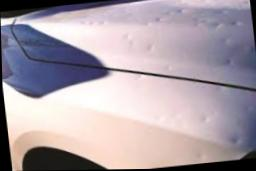Bonnet: (8, 0, 256, 92)
Bumper: (106, 78, 256, 161)
